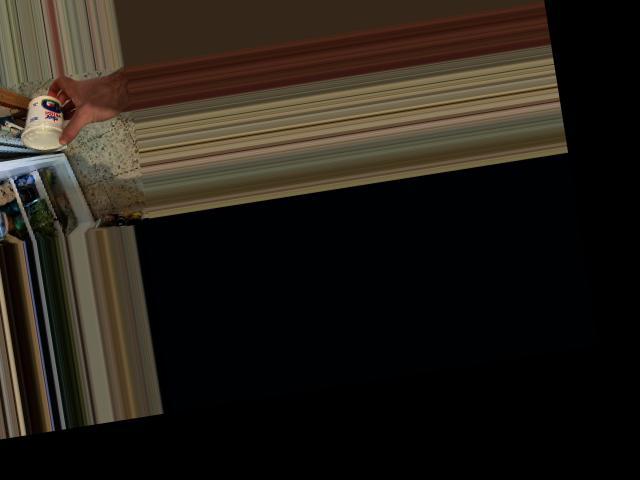cotage: (17, 92, 72, 151)
